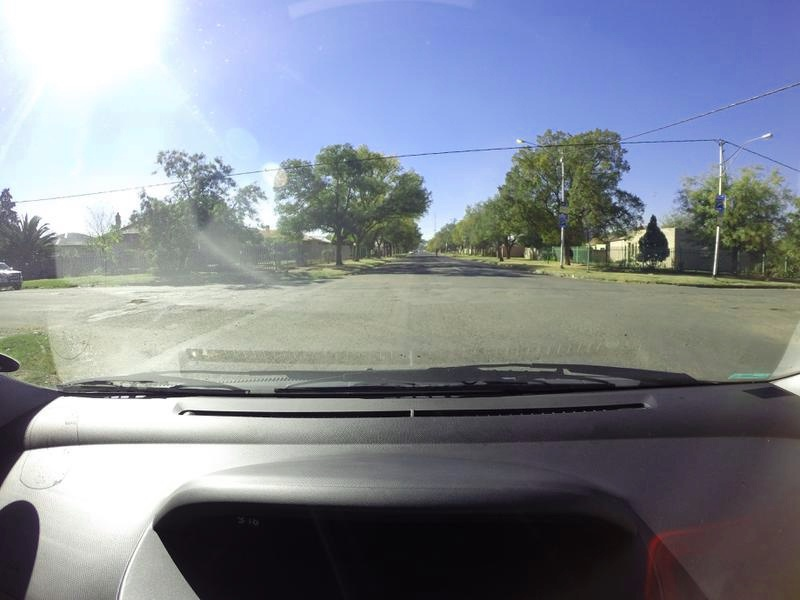pothole: (126, 296, 157, 312)
